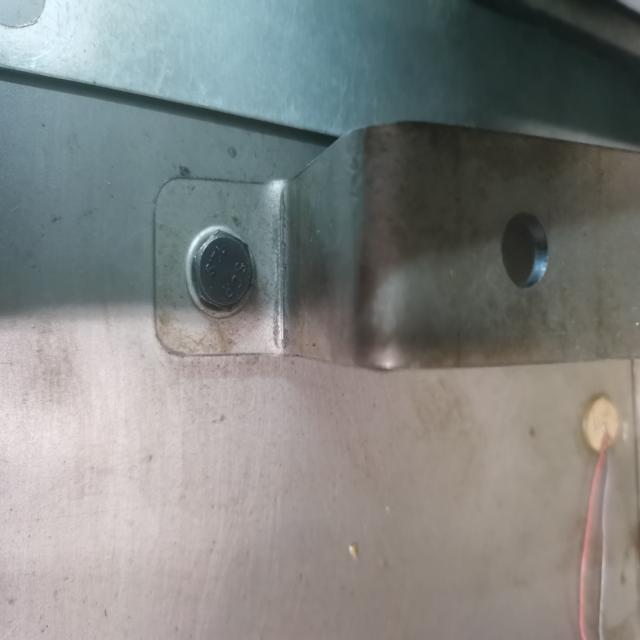Missing bolt: (499, 202, 558, 301)
Regular bolt: (194, 231, 256, 314)
